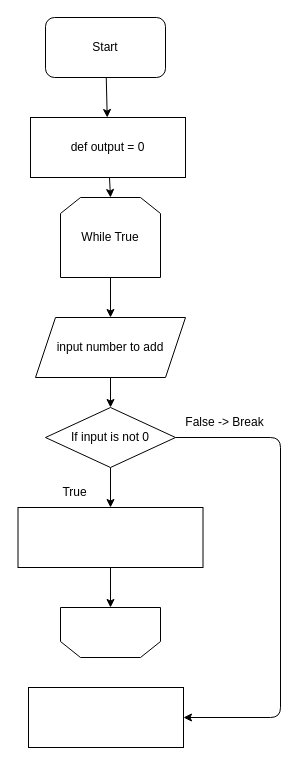
Some shapes in this 306 by 765 pixel diagram are drawn without their labels. Here are the shapes that lost their labels. From the top down, the centre of each, then its label:
At point 110,537: "add input number with output number".
At point 106,717: "return output".
